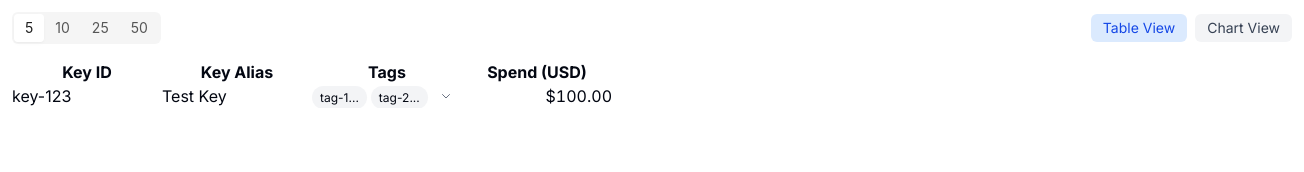
TopKeyView › should expand tags when expand button is clicked
Click the button titled "Show all tags": (446,96) [436,86,456,106]
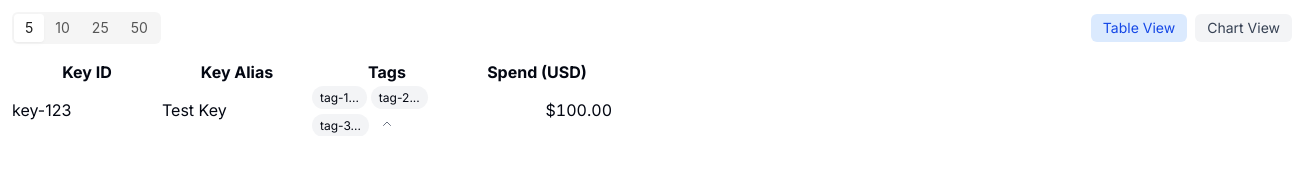
Result: the text "tag-3..." is shown at [312,114,369,136]
